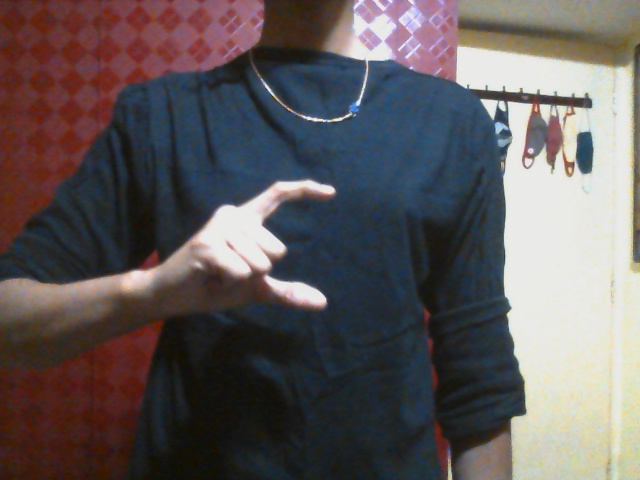C: (162, 177, 337, 313)
